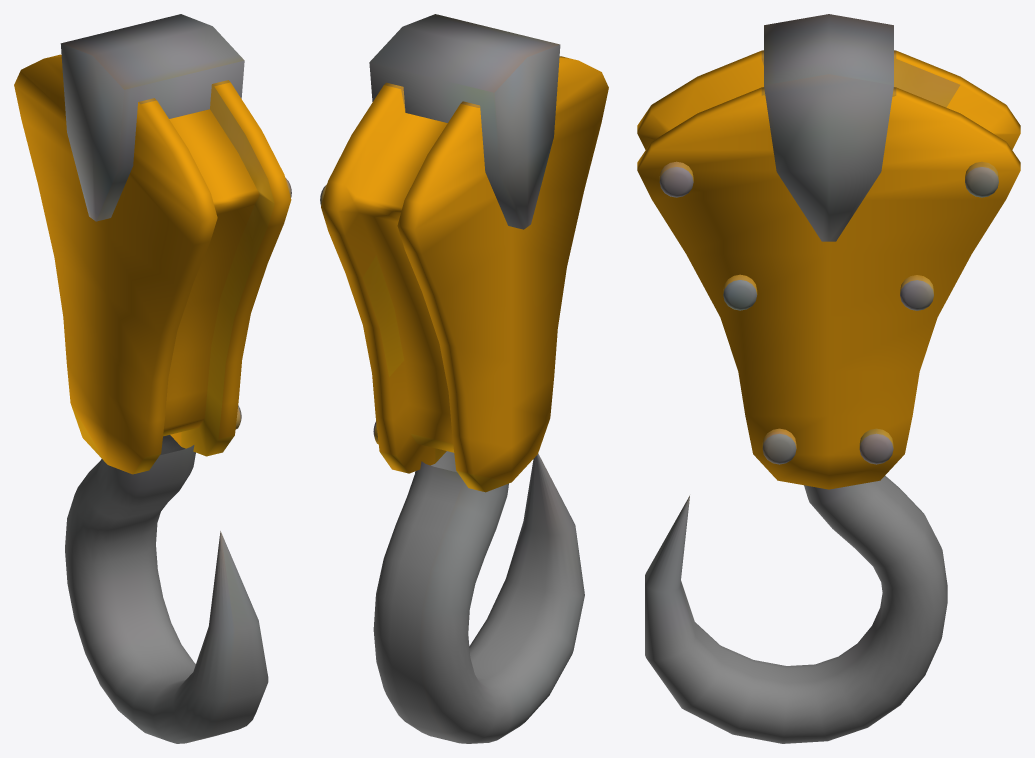
The model's file is gc_04_hook.glb.
3 views of the same model, side by side, from view 1: azimuth 30°, elevation 25°; view 2: azimuth 150°, elevation 25°; view 3: azimuth 270°, elevation 25° (orthographic). The views are drawn at different scales.
Parts seen in each view (by area): view 1: hook; view 2: hook; view 3: hook.
Boxes of the visible parts, box(x1,y1,x2,y2) form: hook: box(14, 14, 291, 743); hook: box(320, 14, 608, 743); hook: box(637, 14, 1020, 743).
Bounding box in the file's own units: 0.2475 × 1.32 × 0.6661.
2 materials, 1 textured.
